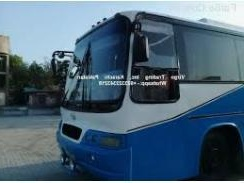bus: (52, 5, 244, 180)
